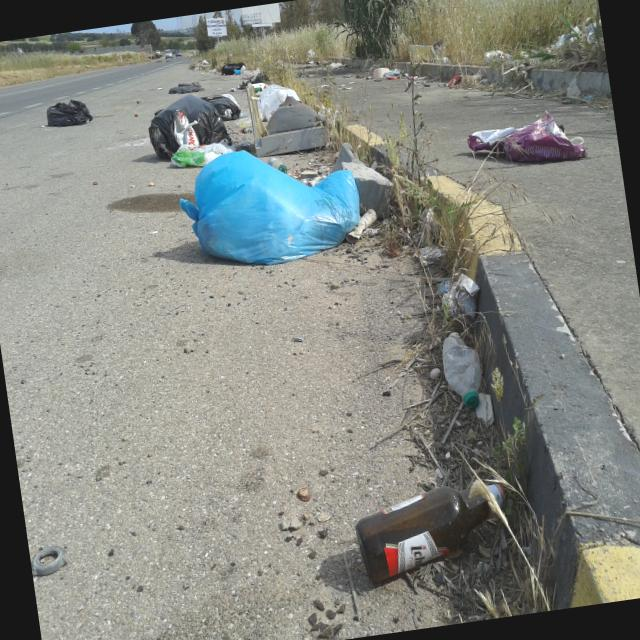garbage: (124, 55, 381, 292), (306, 430, 514, 599), (461, 98, 594, 181), (39, 76, 100, 142)
